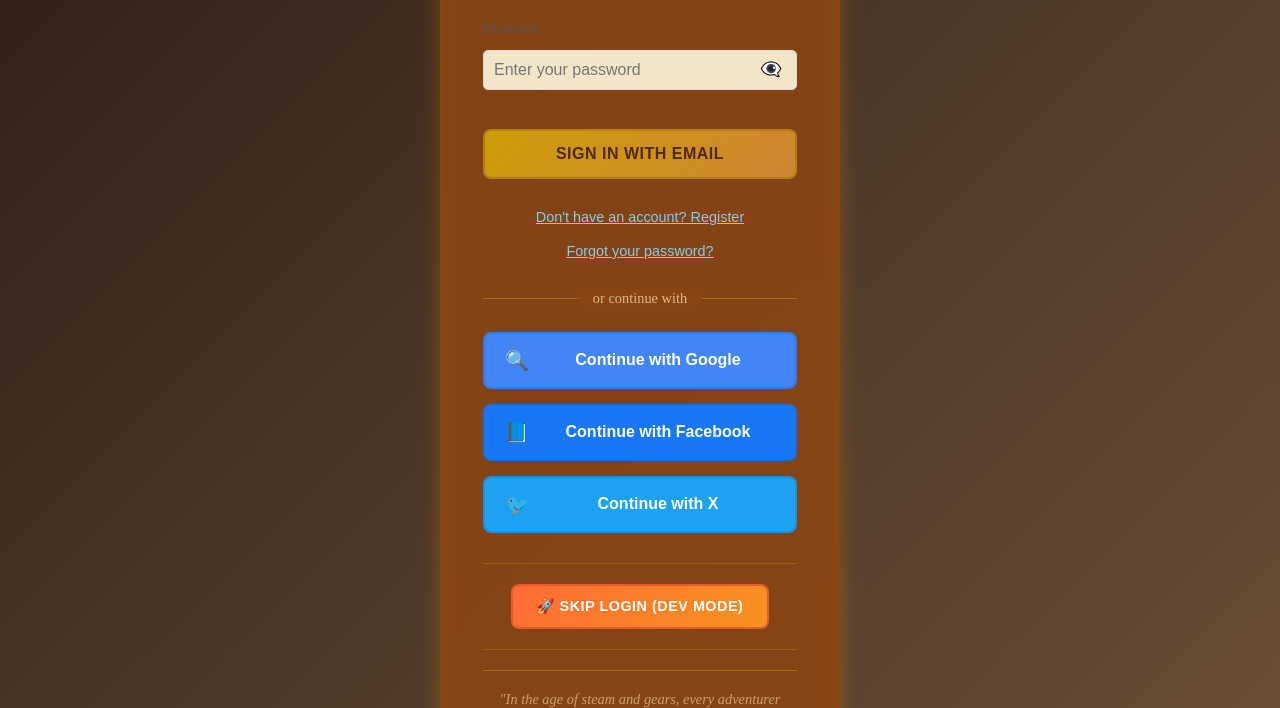
it: LoginComponent › shows loading state when login is in progress
The image size is (1280, 708).
(page scrolled)
Click the button "Continue with Google". click: (658, 360)
box: [575,351,741,368]
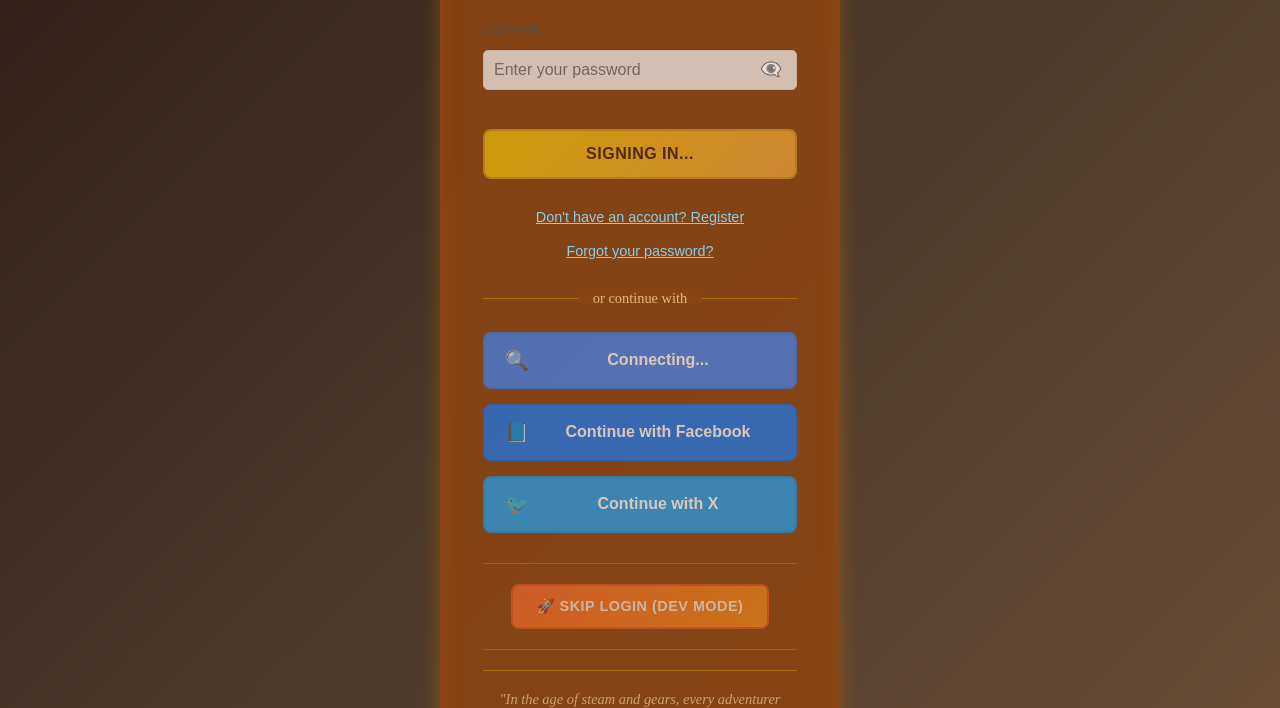
Now the button "Connecting..." is shown, box [607,351,709,368]
